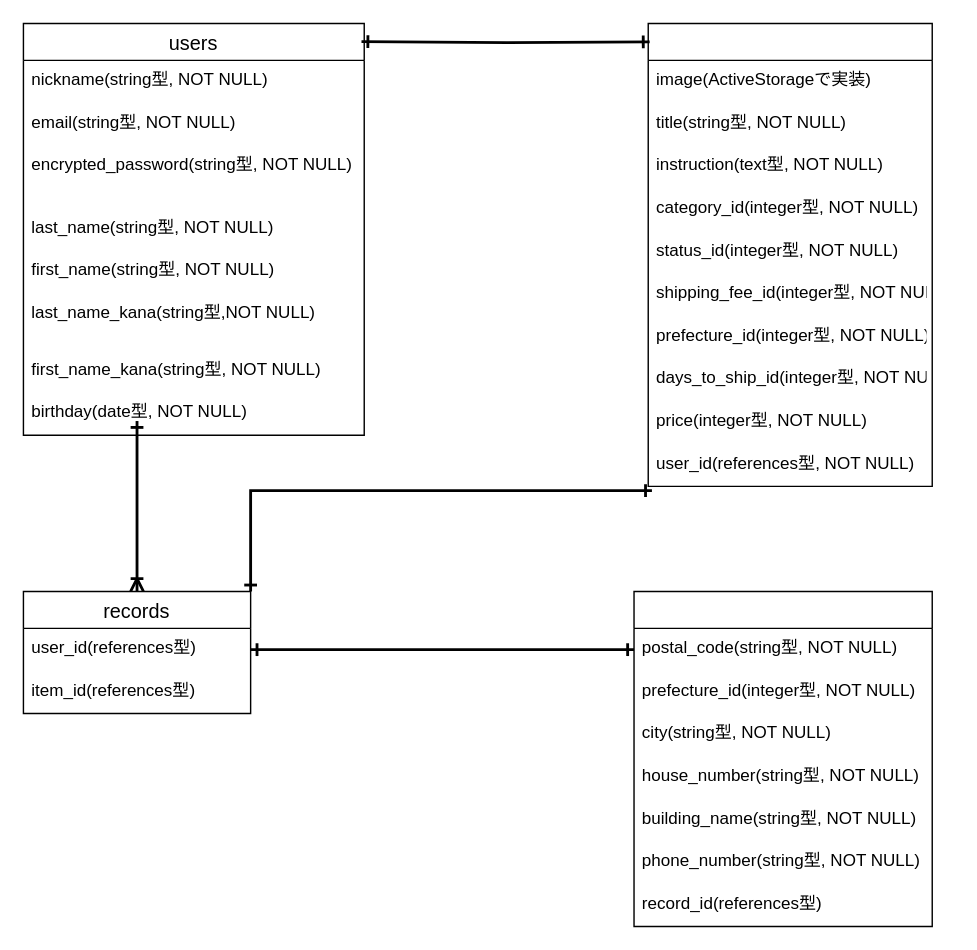
This 977x950 diagram has some shape labels left out. The shapes that lost their labels are listed below. From the top down, each one's box as (x1, y1, x2, y2) in pixels, then its label:
(647, 22, 932, 486): items
(633, 590, 932, 927): shipping_addresses
